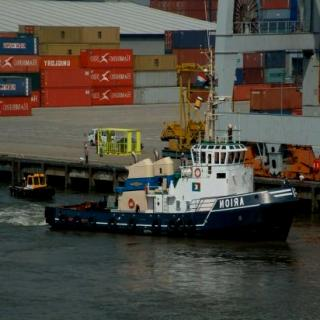Tug Boat: (46, 131, 300, 238)
